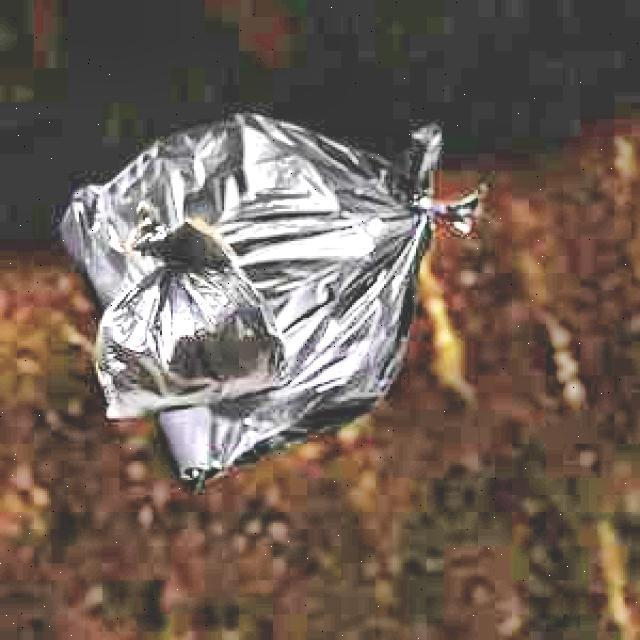Trashbag: (58, 102, 488, 495)
